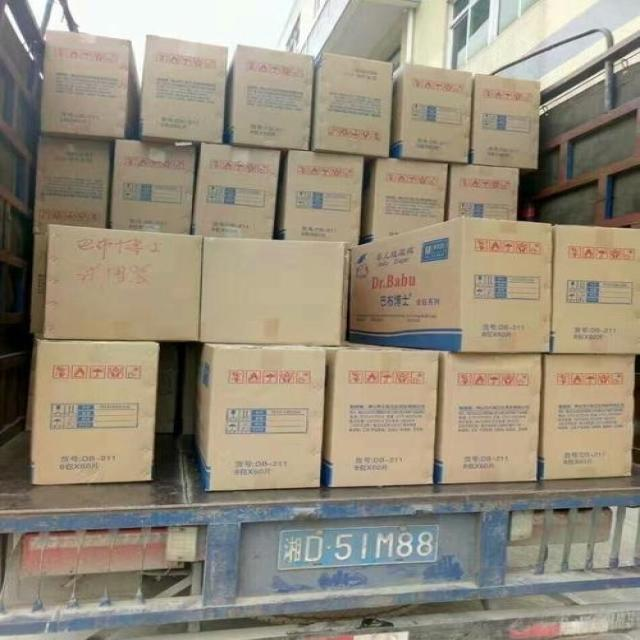box: (346, 215, 553, 353), (190, 344, 325, 491), (31, 339, 157, 485), (314, 341, 440, 486), (43, 224, 200, 340), (199, 236, 345, 346), (437, 350, 544, 483), (537, 353, 634, 480), (39, 29, 143, 142), (548, 225, 639, 353), (225, 46, 316, 151), (140, 37, 228, 145), (308, 54, 392, 159), (274, 148, 365, 243), (193, 144, 283, 240), (389, 65, 474, 164), (111, 138, 198, 234), (34, 136, 115, 232), (359, 157, 452, 240), (472, 74, 541, 168), (447, 164, 520, 220), (33, 231, 46, 332)
